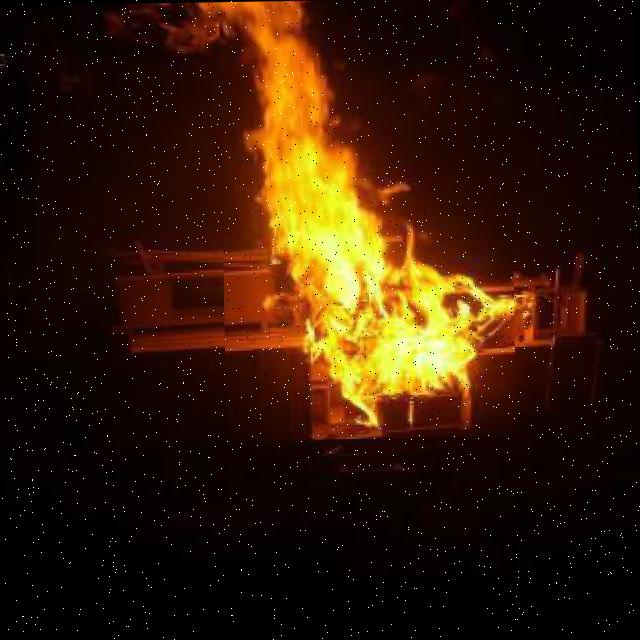fire: (218, 0, 516, 440)
